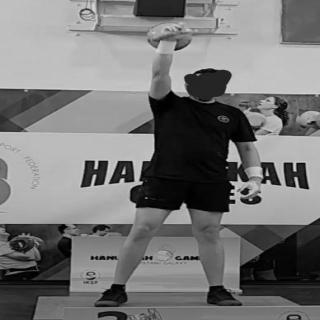kettlebell: (139, 23, 206, 55)
